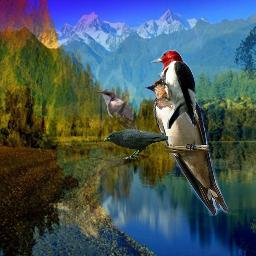Crow: (103, 129, 168, 159)
Cuckoo: (96, 88, 141, 142)
Swallow: (144, 76, 228, 216)
Woodpecker: (150, 50, 197, 129)
